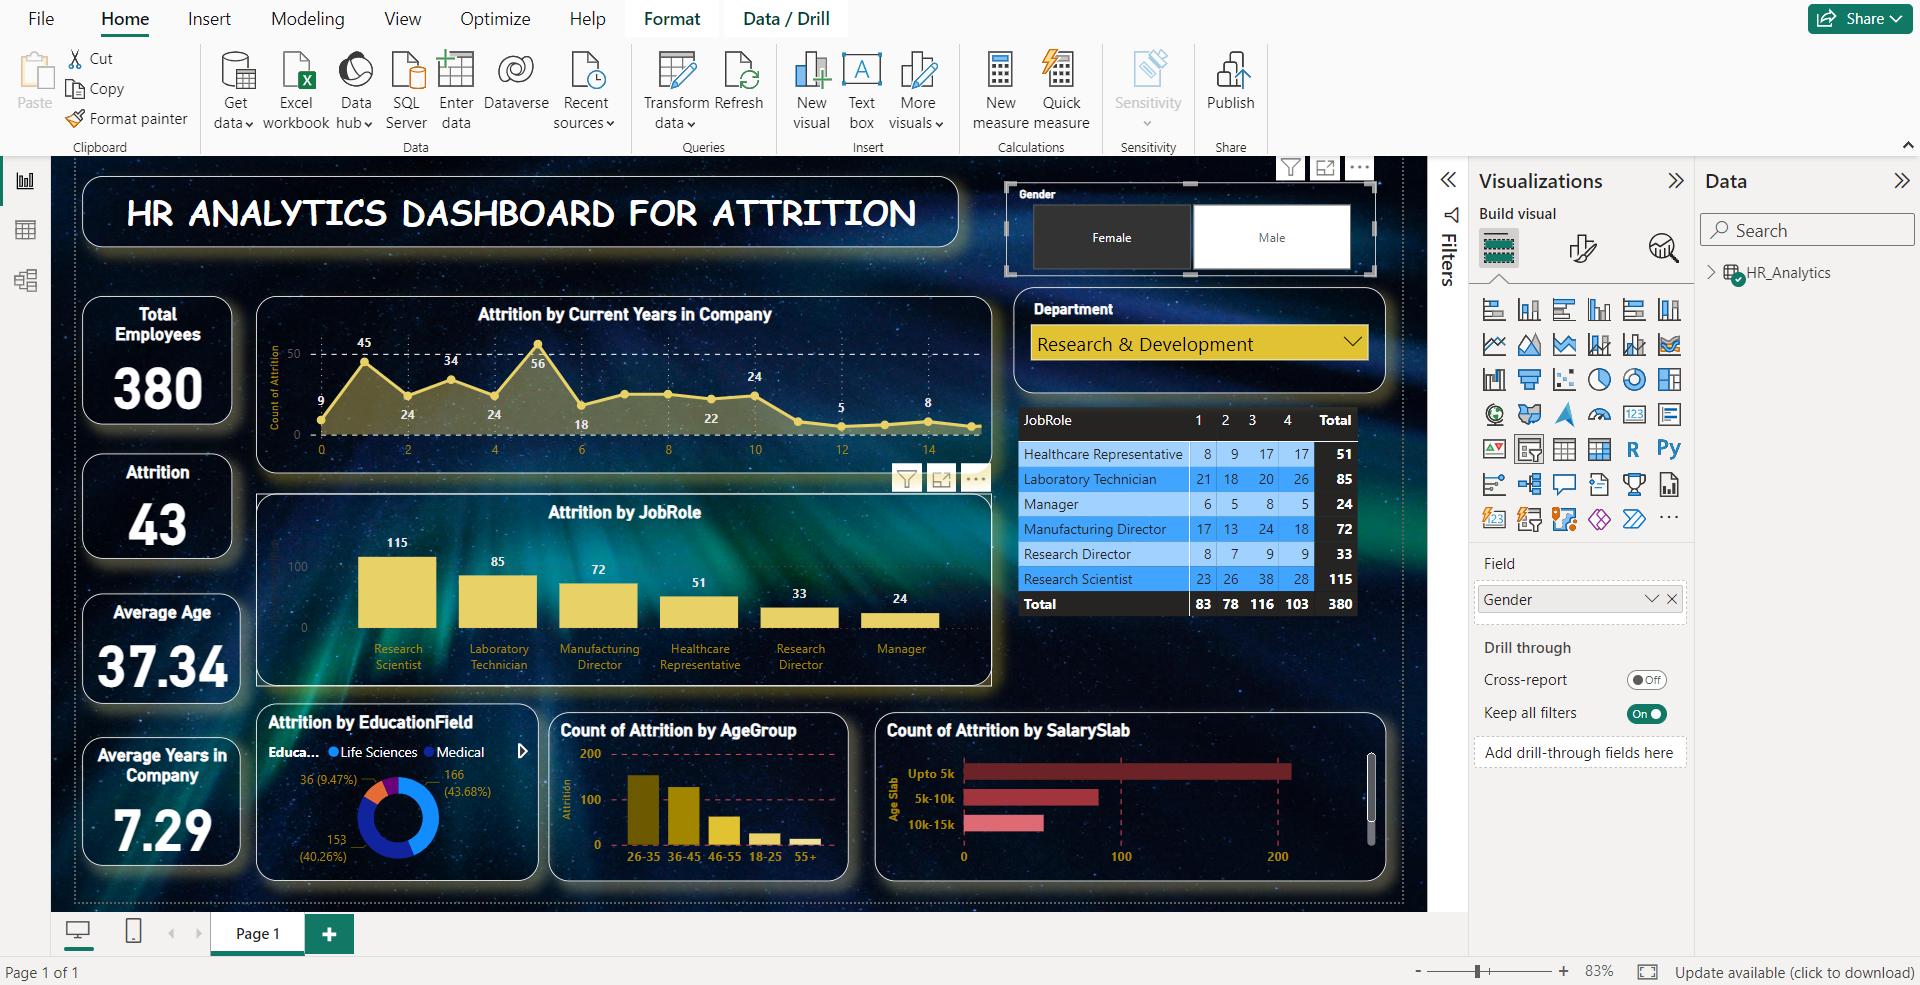

The dashboard page shown, as its layout file describes it:
{"tool":"powerbi","page":{"name":"Page 1","canvas":[1280,720],"ordinal":0},"visuals":[{"type":"card","title":"Total Employees","fields":{"Values":["Sum(HR_Analytics.EmployeeCount)"]},"box":[6,135.1,144.7,124.2],"z":0},{"type":"card","title":"Attrition","fields":{"Values":["Sum(HR_Analytics.Attrition_count)"]},"box":[6,287,144.7,101.3],"z":1000},{"type":"card","title":"Average Age","fields":{"Values":["Avg(HR_Analytics.Age)"]},"box":[6,422.1,153.2,106.1],"z":2000},{"type":"card","title":"Average Years in Company","fields":{"Values":["Avg(HR_Analytics.YearsAtCompany)"]},"box":[6,560.8,153.2,124.2],"z":3000},{"type":"donutChart","title":"Attrition by EducationField","fields":{"Y":["CountNonNull(HR_Analytics.Attrition)"],"Category":["HR_Analytics.EducationField"]},"box":[173.7,528.2,272.6,171.3],"z":4000},{"type":"columnChart","fields":{"Category":["HR_Analytics.AgeGroup"],"Y":["CountNonNull(HR_Analytics.Attrition)"]},"box":[455.9,536.7,289.4,162.8],"z":5000},{"type":"clusteredBarChart","fields":{"Y":["CountNonNull(HR_Analytics.Attrition)"],"Category":["HR_Analytics.SalarySlab"]},"box":[770.7,536.7,493.3,162.8],"z":6000},{"type":"columnChart","title":"Attrition by JobRole","fields":{"Category":["HR_Analytics.JobRole"],"Y":["CountNonNull(HR_Analytics.Attrition)"]},"box":[173.7,325.6,710.4,185.7],"z":7000},{"type":"areaChart","title":"Attrition by Current Years in Company","fields":{"Y":["CountNonNull(HR_Analytics.Attrition)"],"Category":["HR_Analytics.YearsAtCompany"]},"box":[173.7,135.1,710.4,171.3],"z":8000},{"type":"pivotTable","fields":{"Rows":["HR_Analytics.JobRole"],"Columns":["HR_Analytics.JobSatisfaction"],"Values":["Sum(HR_Analytics.EmployeeCount)"]},"box":[904.5,237.6,359.4,273.8],"z":9000},{"type":"slicer","title":"Gender","fields":{"Values":["HR_Analytics.Gender"]},"box":[897,25,357,91],"z":10000},{"type":"slicer","fields":{"Values":["HR_Analytics.Department"]},"box":[904.5,126.6,359.4,102.5],"z":11000},{"type":"textbox","box":[6,19.3,845.4,68.7],"z":12000}]}

Visuals, with their boxes on the page's 1280x720 design canvas (x1, y1, x2, y2). These are canvas units, not pixel positions in the 1920x985 screenshot, which may show the page scaled, cropped or inside an application window:
"Total Employees" card: 6/135/151/259
"Attrition" card: 6/287/151/388
"Average Age" card: 6/422/159/528
"Average Years in Company" card: 6/561/159/685
"Attrition by EducationField" donutChart: 174/528/446/700
columnChart - HR_Analytics.AgeGroup x CountNonNull(HR_Analytics.Attrition): 456/537/745/700
clusteredBarChart - CountNonNull(HR_Analytics.Attrition) x HR_Analytics.SalarySlab: 771/537/1264/700
"Attrition by JobRole" columnChart: 174/326/884/511
"Attrition by Current Years in Company" areaChart: 174/135/884/306
pivotTable - HR_Analytics.JobRole x HR_Analytics.JobSatisfaction: 904/238/1264/511
"Gender" slicer: 897/25/1254/116
slicer - HR_Analytics.Department: 904/127/1264/229
textbox: 6/19/851/88
